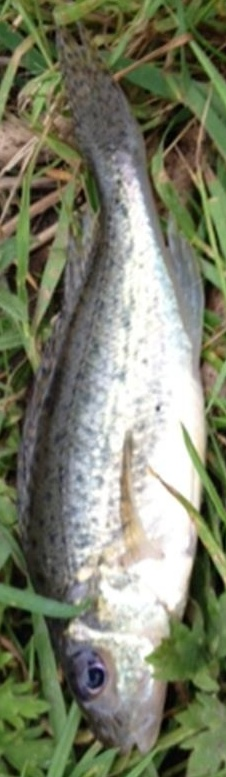Gymnocephalus cernuus: (20, 20, 206, 757)
